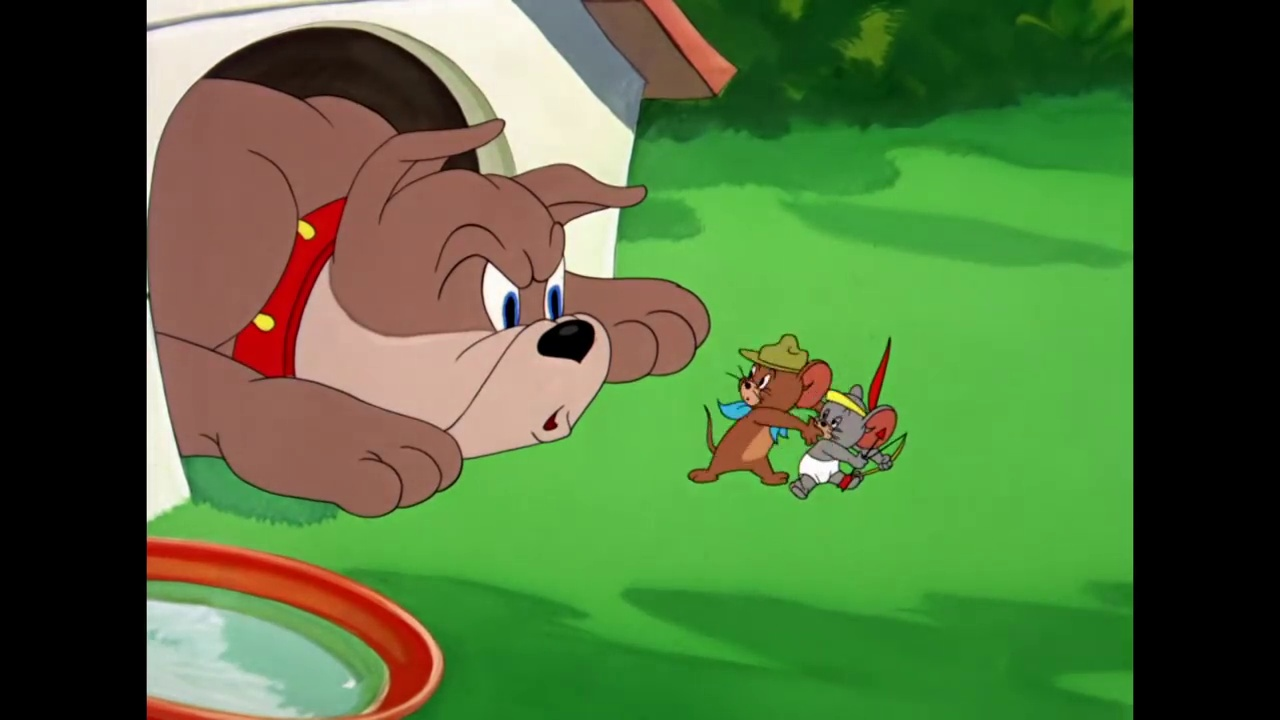spike: (284, 117, 647, 461)
